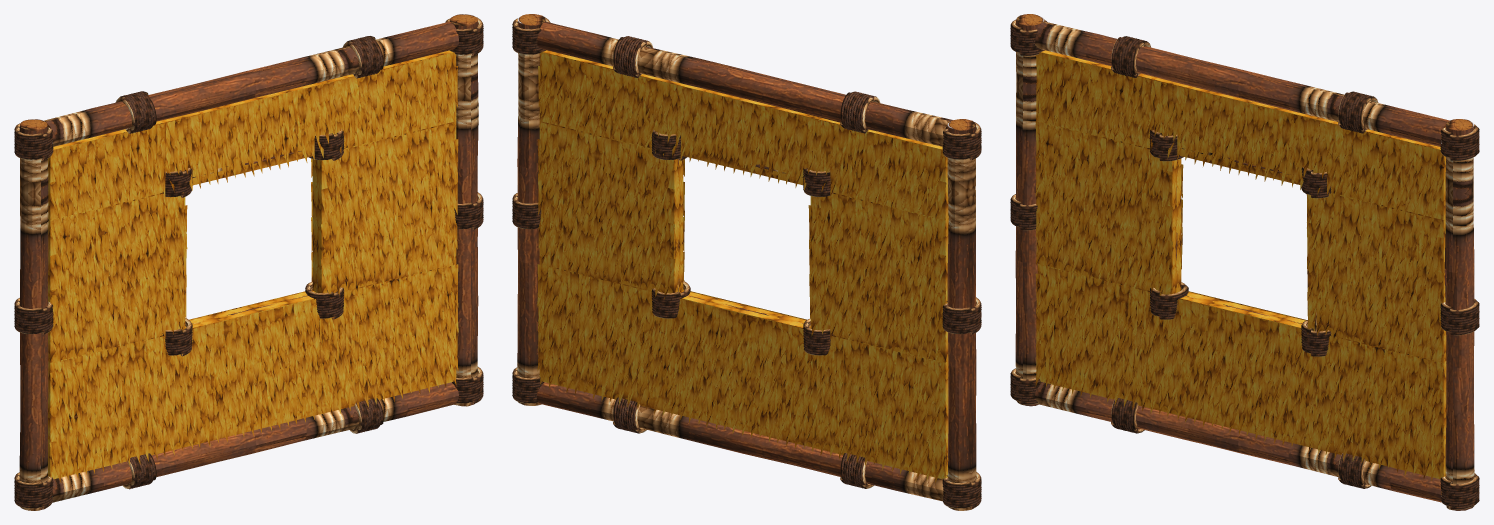
File: Haus_Wand_mit_Fenster.glb
3 renders of one model, left to right at view 1: azimuth 30°, elevation 25°; view 2: azimuth 150°, elevation 25°; view 3: azimuth 330°, elevation 25°, orthographic.
Parts seen in each view (by area): view 1: wand_fenster; view 2: wand_fenster; view 3: wand_fenster.
Boxes of the visible parts, bbox=[...] form: wand_fenster: bbox=[14, 14, 483, 510]; wand_fenster: bbox=[512, 14, 981, 510]; wand_fenster: bbox=[1010, 14, 1479, 510].
Bounding box in the file's own units: 3.06 × 2.46 × 0.26.
Materials: 4 (4 with a texture image).
